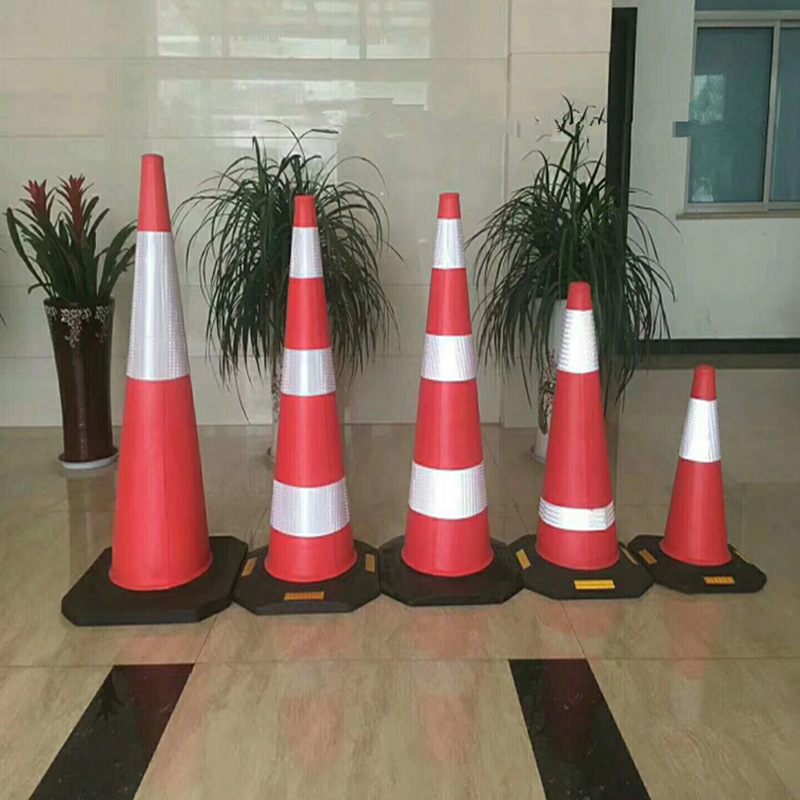traffic_cone: (63, 157, 244, 622), (381, 194, 520, 616), (255, 192, 374, 619), (524, 283, 650, 604), (658, 362, 777, 606)
